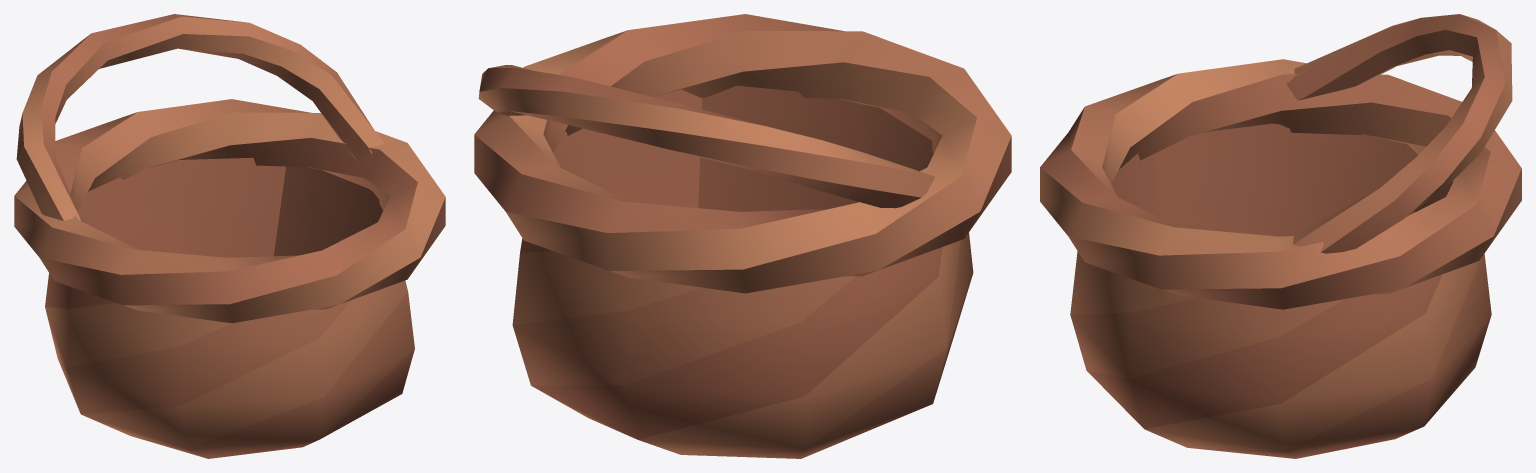
File: panier_01.glb
3 views of the same model, side by side, from view 1: azimuth 30°, elevation 25°; view 2: azimuth 150°, elevation 25°; view 3: azimuth 270°, elevation 25° (orthographic). The views are drawn at different scales.
Parts seen in each view (by area): view 1: Food_Basket_A_Empty; view 2: Food_Basket_A_Empty; view 3: Food_Basket_A_Empty.
Part boxes in pixels (box(x1,y1,x2,y2)): Food_Basket_A_Empty: box(14, 14, 445, 458); Food_Basket_A_Empty: box(474, 14, 1011, 458); Food_Basket_A_Empty: box(1040, 14, 1521, 458).
Bounding box in the file's own units: 0.8506 × 0.6798 × 0.834.
1 material, 1 textured.
